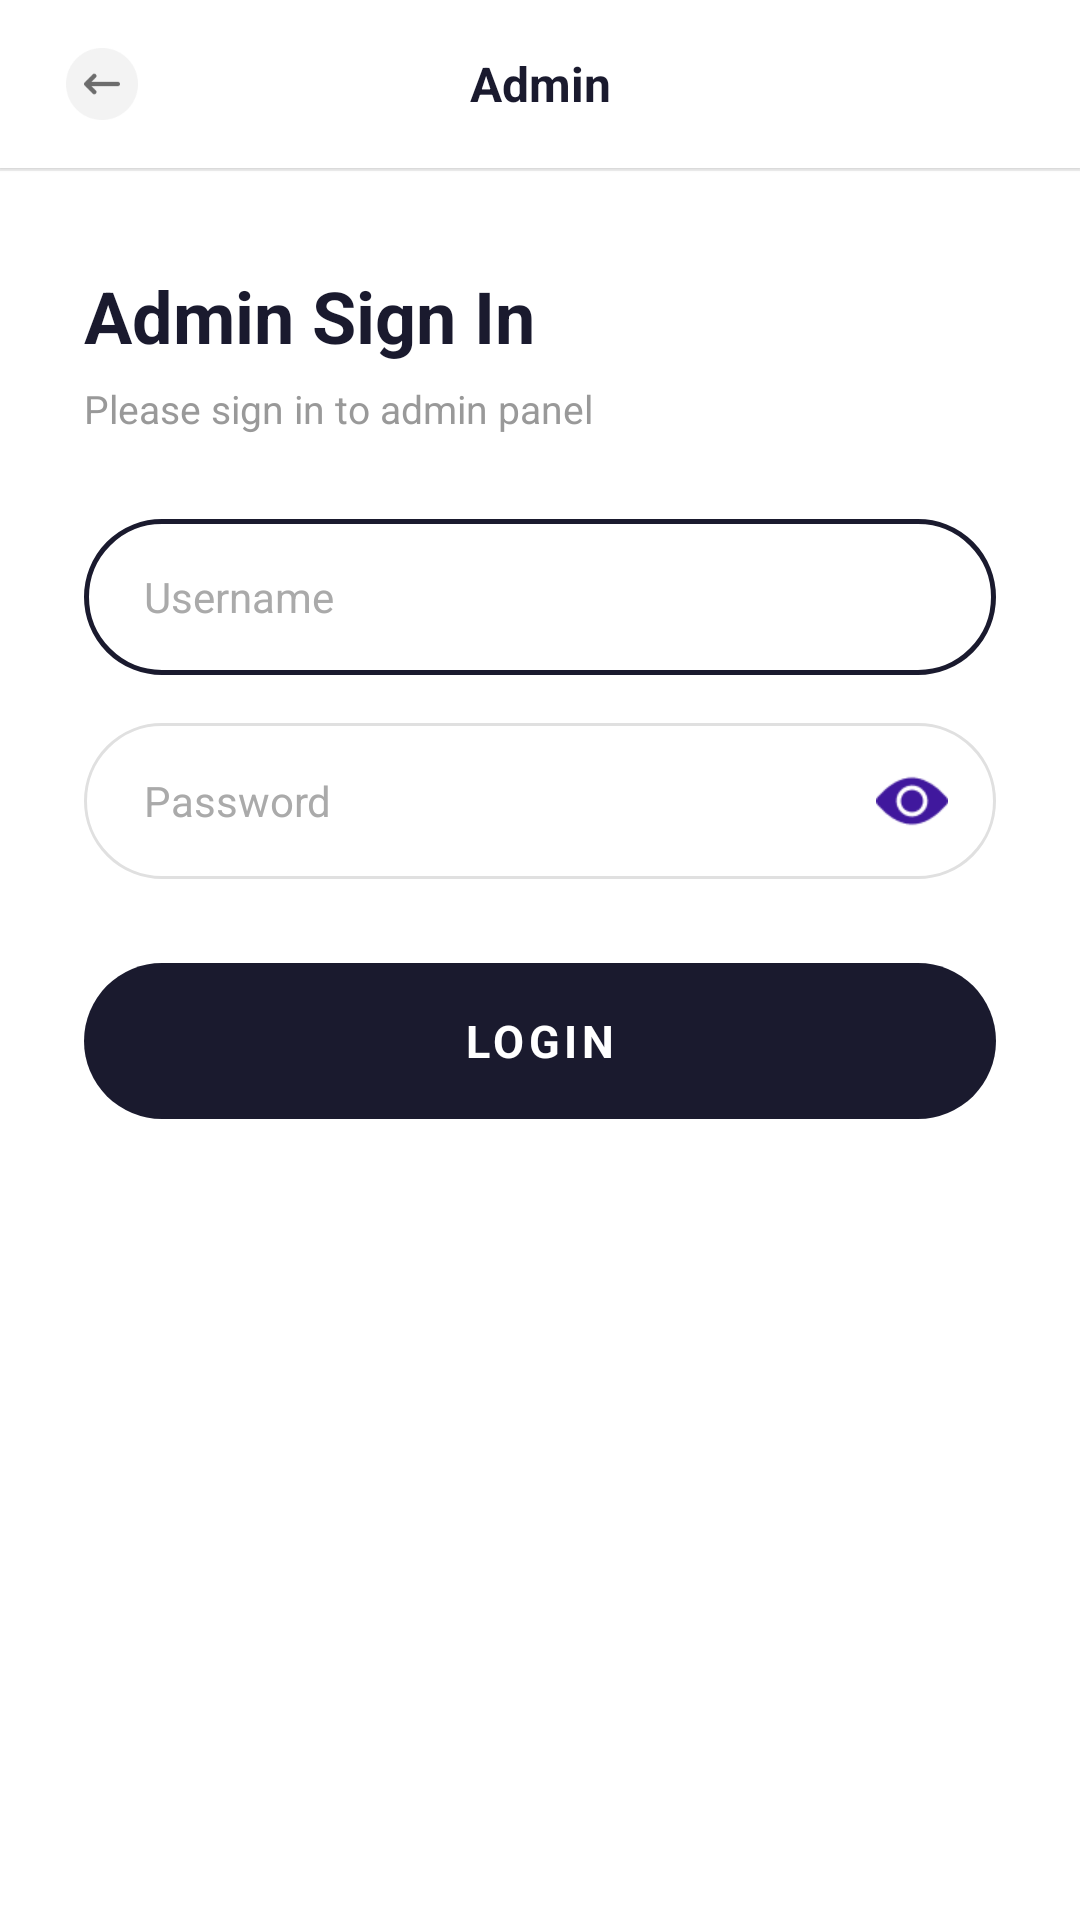

Icon click points for this 1080px×1920px phone screenshot, format (x,y):
Back: (102,84)
